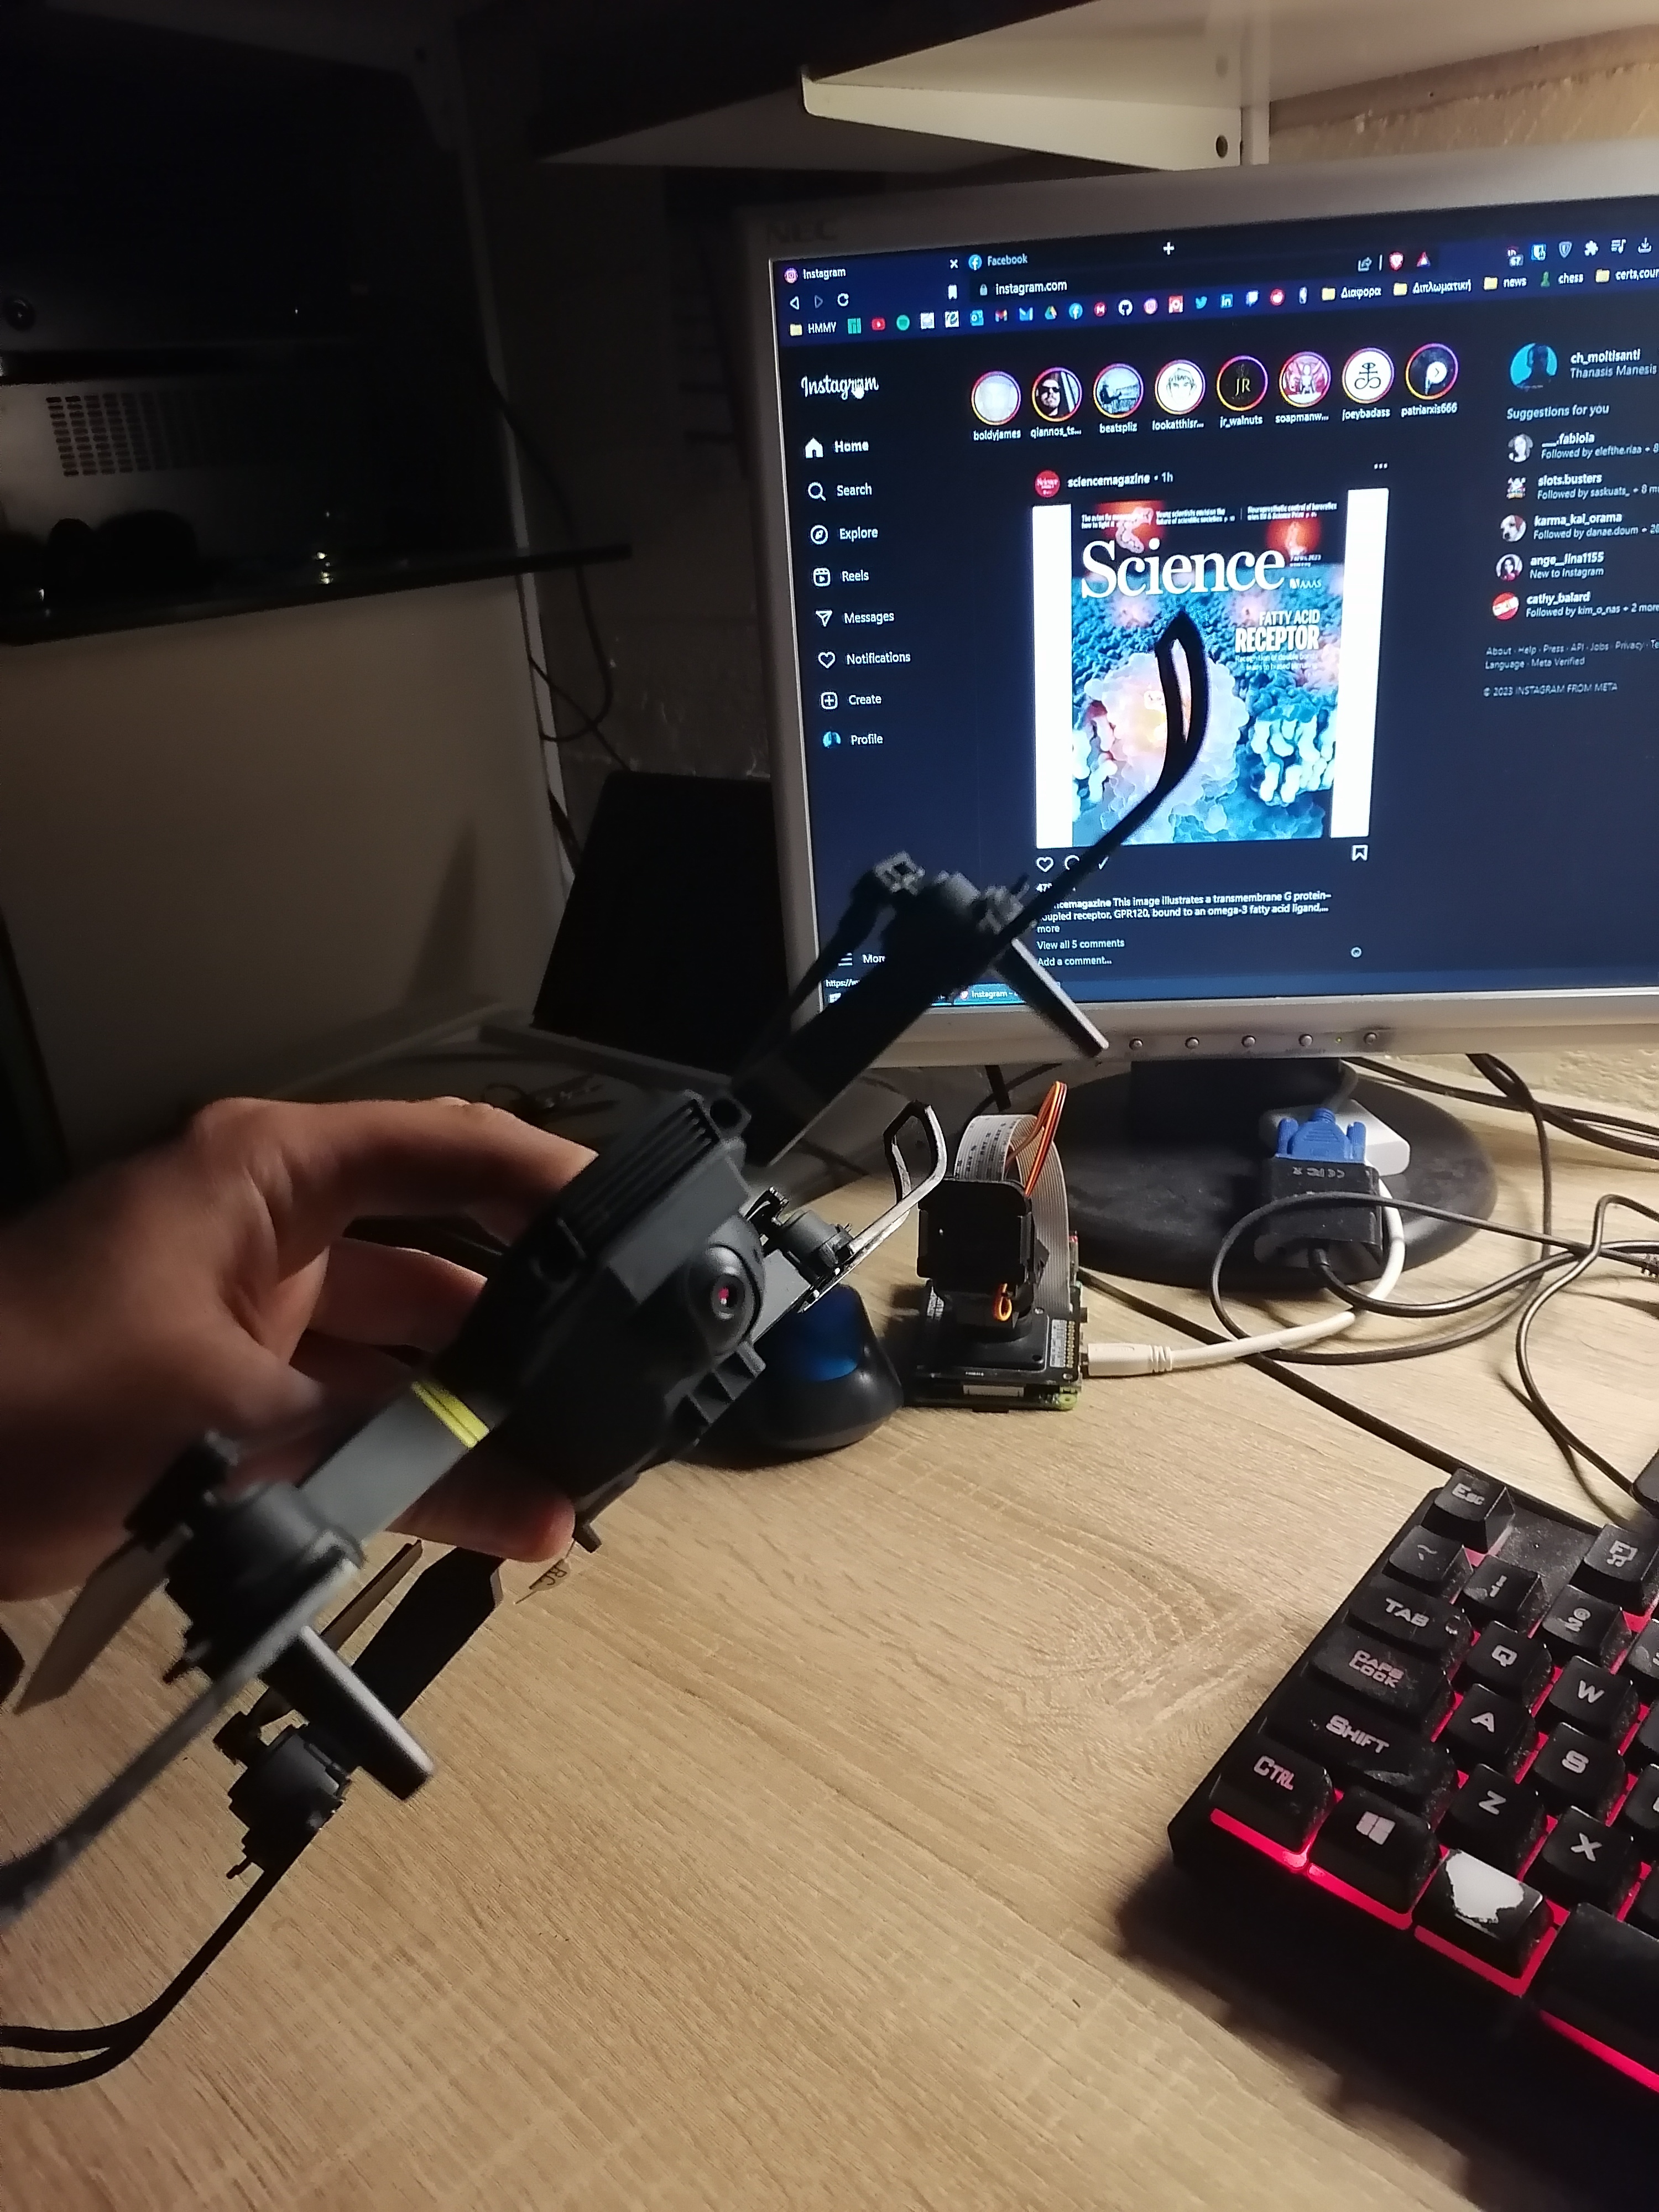drone: (61, 688, 1225, 2029)
